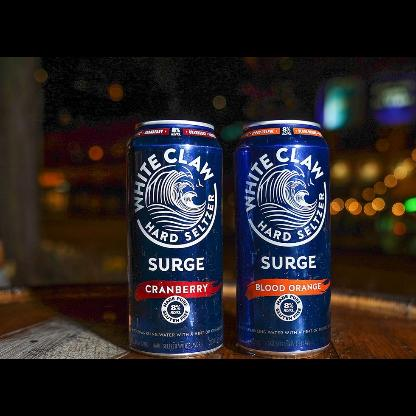Tin_Can: (231, 117, 335, 358), (125, 117, 225, 358)
